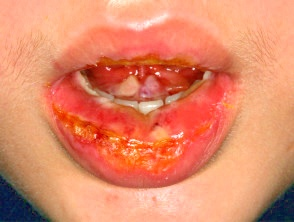SJS-TEN: (36, 38, 247, 196)
